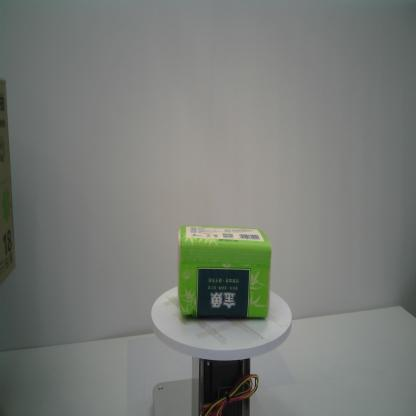Tissue: (177, 225, 272, 319)
